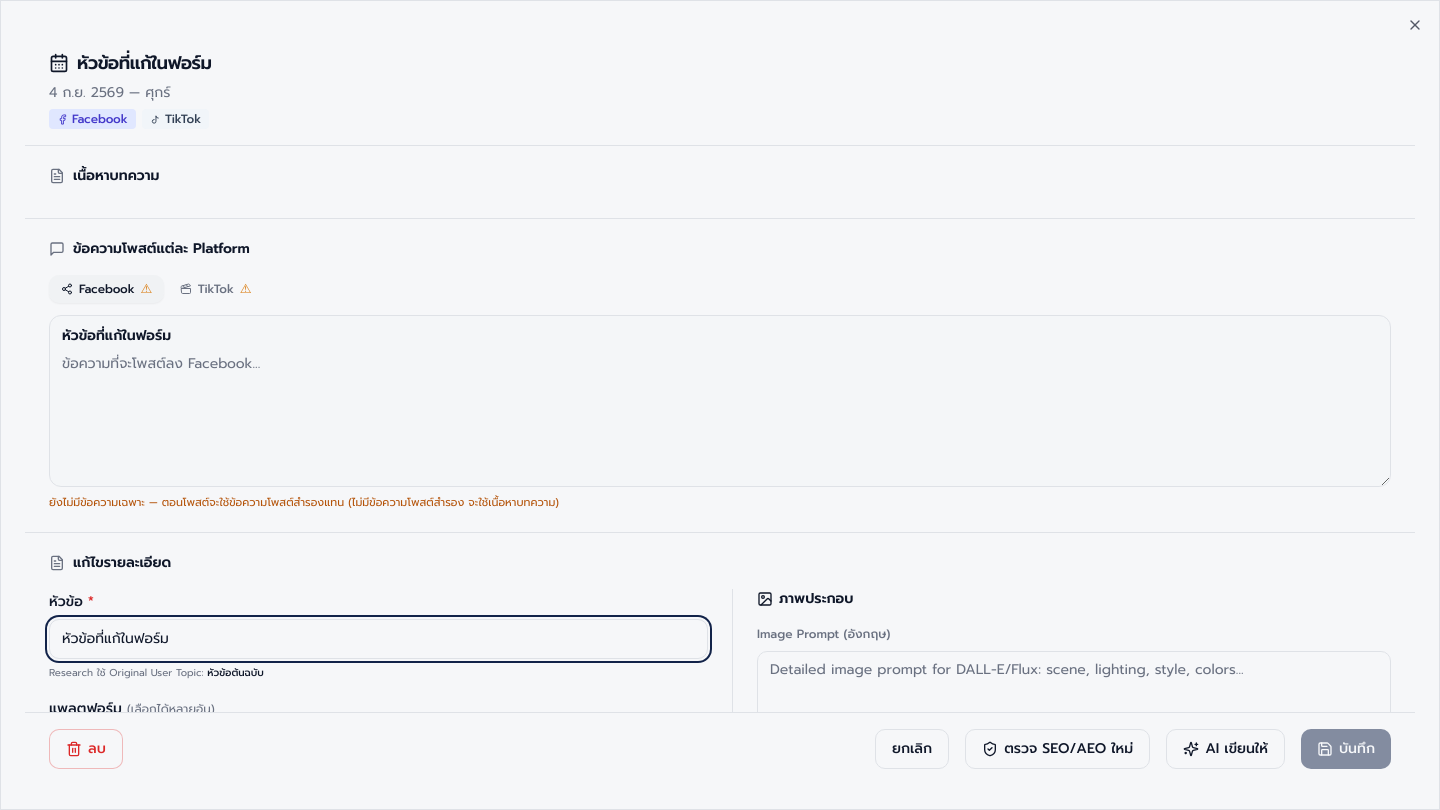
Scenario: ContentCardDialog — confirm gate ก่อน AI เขียนให้ › กดปุ่ม "AI เขียนให้" ต้องเห็นกล่องยืนยันก่อน ไม่เรียก research ทันที
The image size is (1440, 810).
Click the button "AI เขียนให้" at (1226, 749), box [1166,729,1285,769]
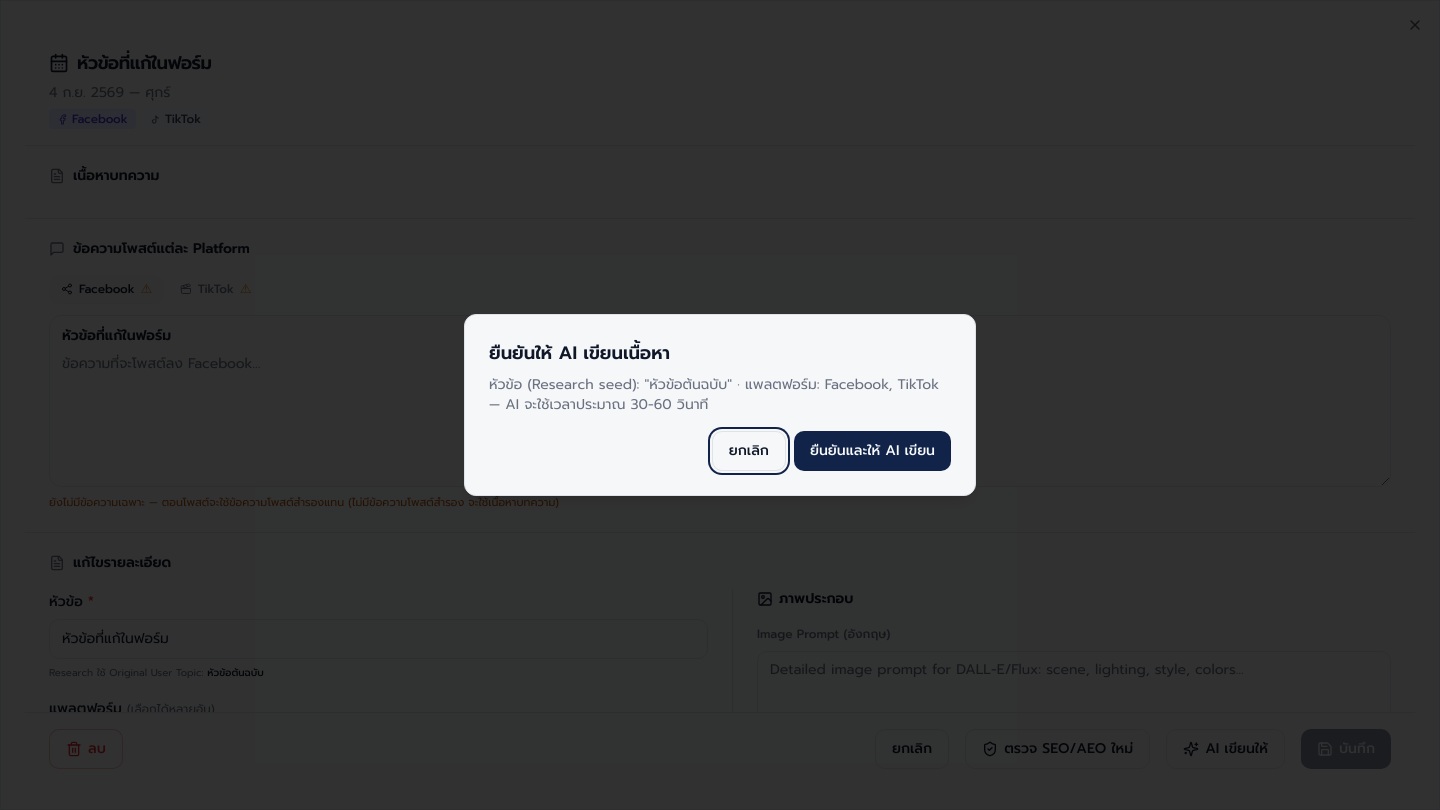
Expected: the heading "ยืนยันให้ AI เขียนเนื้อหา" is shown, [489,339,670,367]
Expected: the text "หัวข้อต้นฉบับ" is shown, [489,374,939,415]
